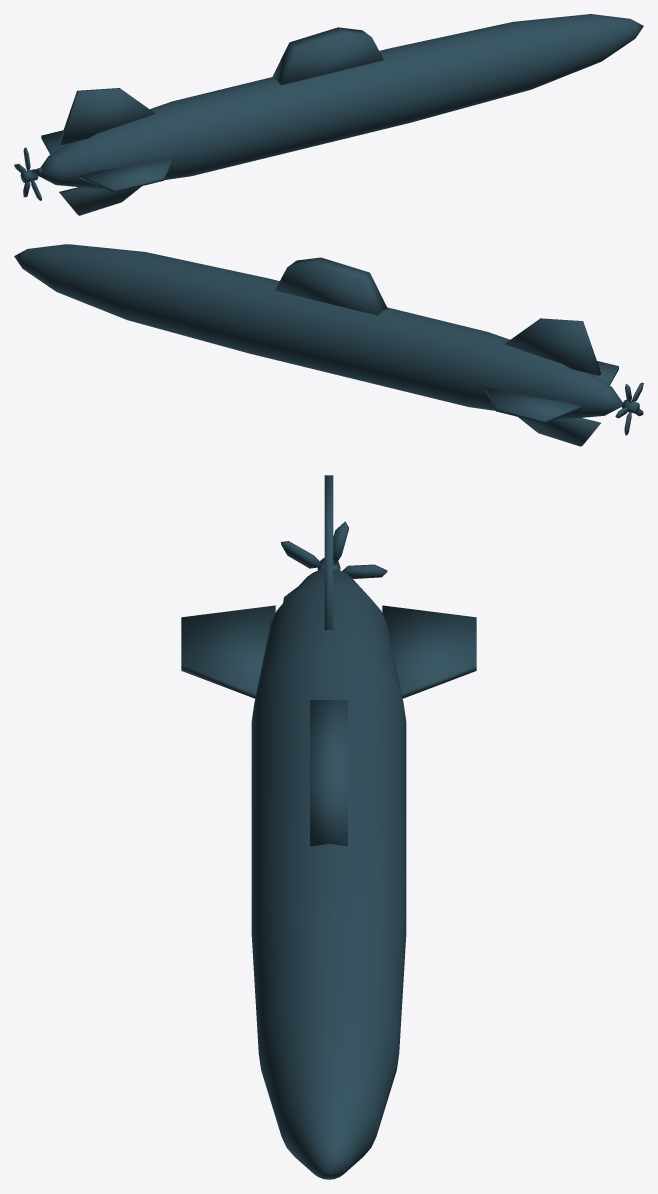
The model's file is submarine_prototype.glb.
3 views of the same model, one above another, from view 1: azimuth 30°, elevation 25°; view 2: azimuth 150°, elevation 25°; view 3: azimuth 270°, elevation 25° (orthographic). The views are drawn at different scales.
Visible parts, largest first — view 1: SM_Submarine_Prototype_Hull, SM_Submarine_Prototype_ControlSurfaces, SM_Submarine_Prototype_Sail, SM_Submarine_Prototype_Propeller; view 2: SM_Submarine_Prototype_Hull, SM_Submarine_Prototype_ControlSurfaces, SM_Submarine_Prototype_Sail, SM_Submarine_Prototype_Propeller; view 3: SM_Submarine_Prototype_Hull, SM_Submarine_Prototype_ControlSurfaces, SM_Submarine_Prototype_Sail, SM_Submarine_Prototype_Propeller.
Part boxes in pixels (box(x1,y1,x2,y2)): SM_Submarine_Prototype_Hull: box(38, 14, 643, 188); SM_Submarine_Prototype_ControlSurfaces: box(41, 88, 174, 215); SM_Submarine_Prototype_Sail: box(271, 27, 383, 85); SM_Submarine_Prototype_Propeller: box(14, 147, 42, 200); SM_Submarine_Prototype_Hull: box(14, 244, 622, 419); SM_Submarine_Prototype_ControlSurfaces: box(485, 318, 618, 446); SM_Submarine_Prototype_Sail: box(275, 257, 387, 315); SM_Submarine_Prototype_Propeller: box(615, 382, 643, 435); SM_Submarine_Prototype_Hull: box(251, 569, 406, 1179); SM_Submarine_Prototype_ControlSurfaces: box(181, 475, 476, 698); SM_Submarine_Prototype_Sail: box(310, 700, 347, 846); SM_Submarine_Prototype_Propeller: box(281, 521, 387, 602).
Bounding box in the file's own units: 102 × 19.4 × 21.
